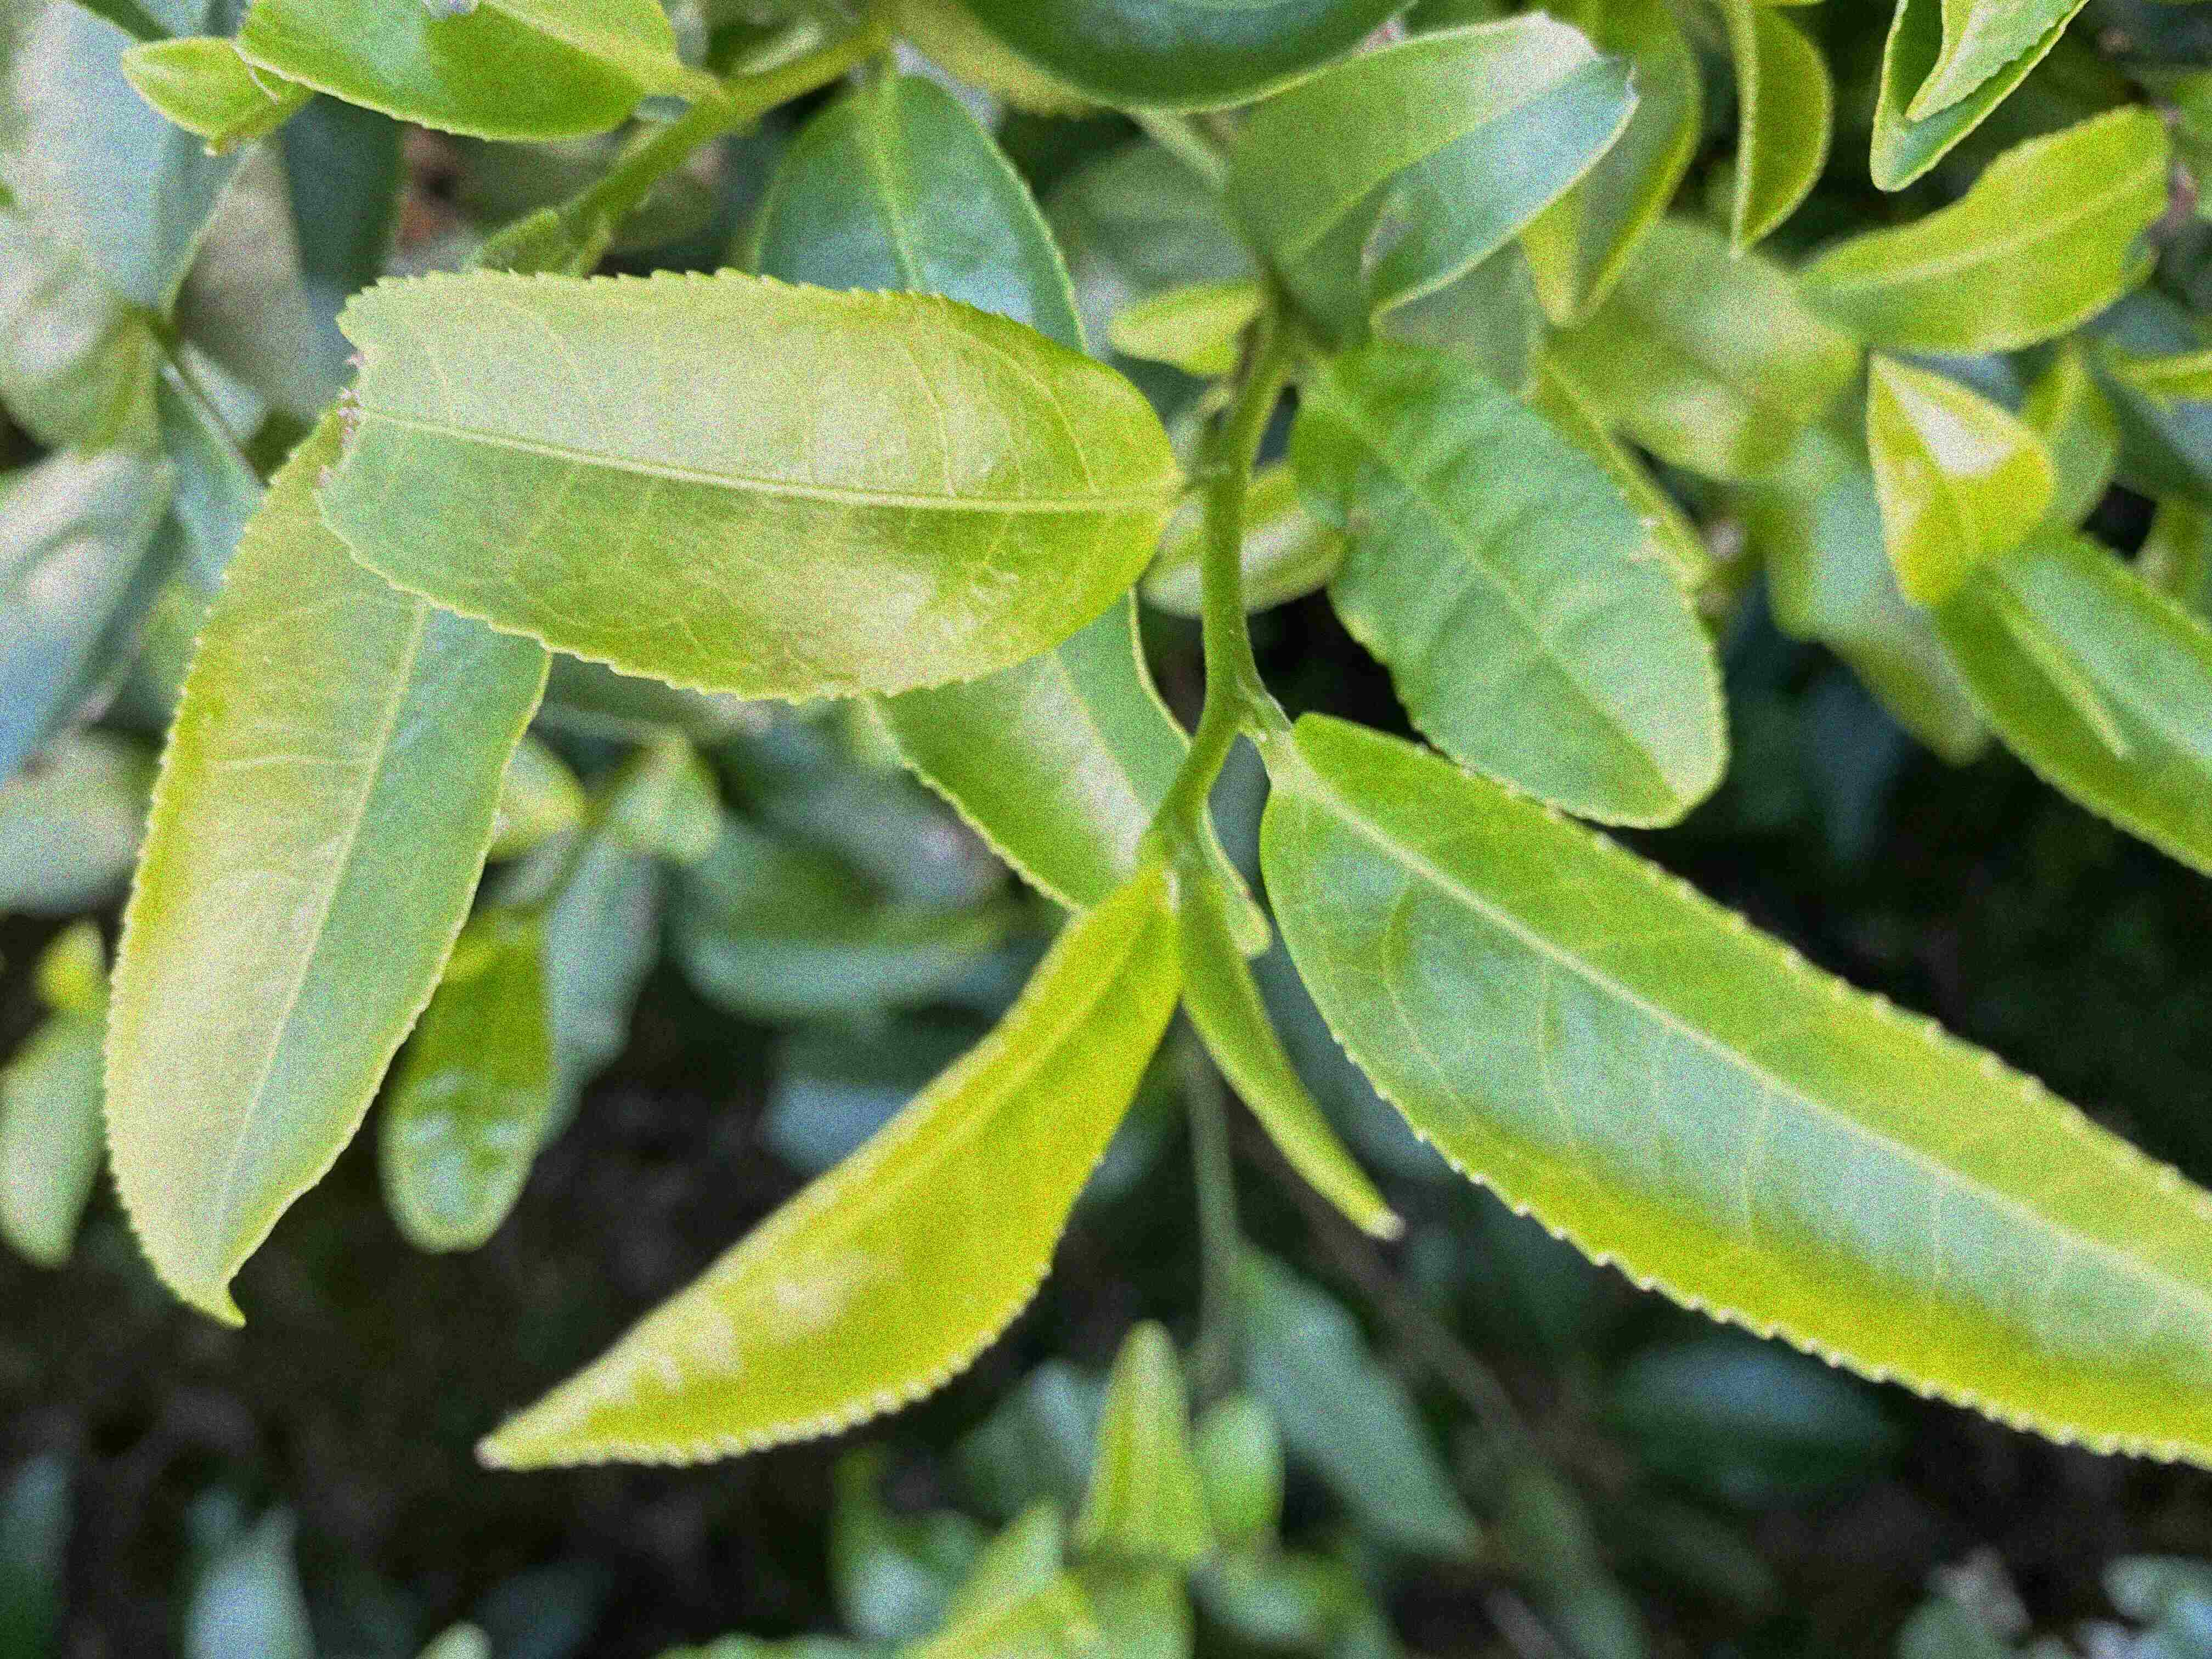chihuo_low: (307, 261, 1184, 706)
healthy: (1258, 709, 2210, 1469), (472, 882, 1179, 1478), (98, 486, 556, 1324)
